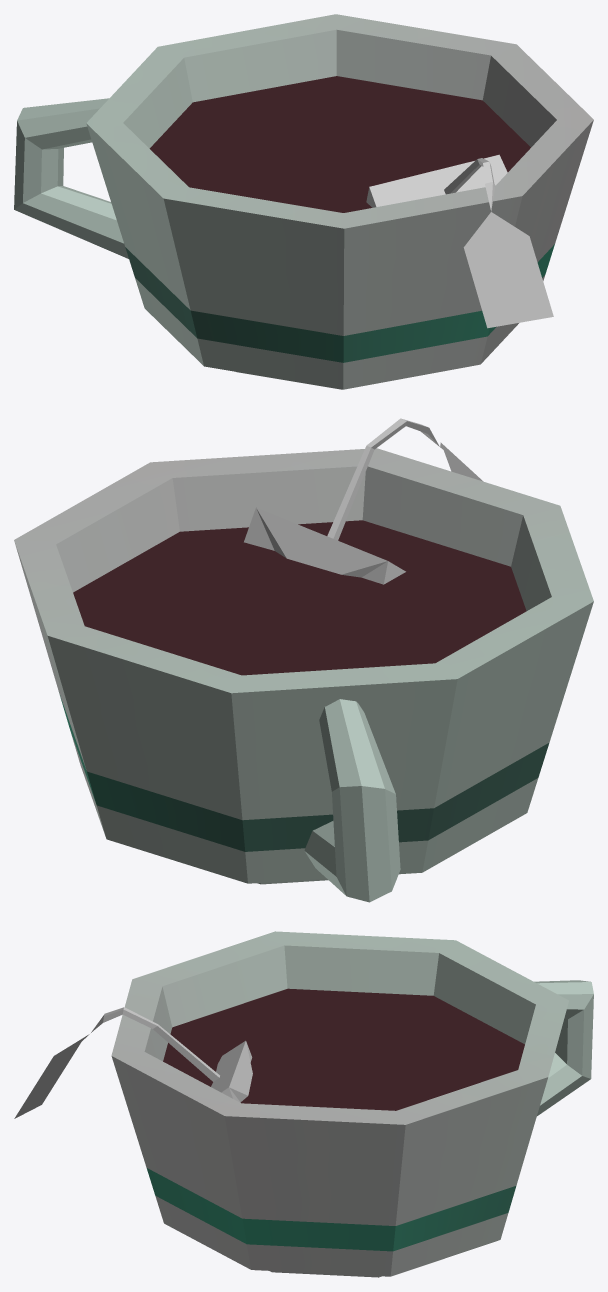
File: Food_StaleTea.fbx
The picture shows the model from 3 angles, top to bottom: view 1: azimuth 30°, elevation 25°; view 2: azimuth 150°, elevation 25°; view 3: azimuth 270°, elevation 25°; orthographic projection. The views are drawn at different scales.
Parts seen in each view (by area): view 1: Cup.006; view 2: Cup.006; view 3: Cup.006.
Boxes of the visible parts, left/top/right/bottom form: Cup.006: left=14, top=14, right=593, bottom=389; Cup.006: left=14, top=418, right=593, bottom=902; Cup.006: left=14, top=931, right=593, bottom=1277.
Bounding box in the file's own units: 11.52 × 6.28 × 14.59.
